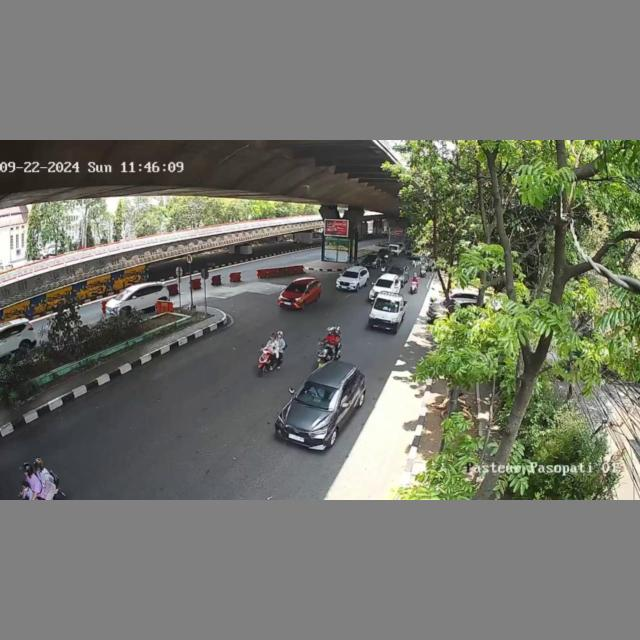windshield: (296, 380, 343, 409), (374, 296, 399, 314), (375, 278, 396, 289), (285, 283, 308, 293), (342, 271, 359, 279)
